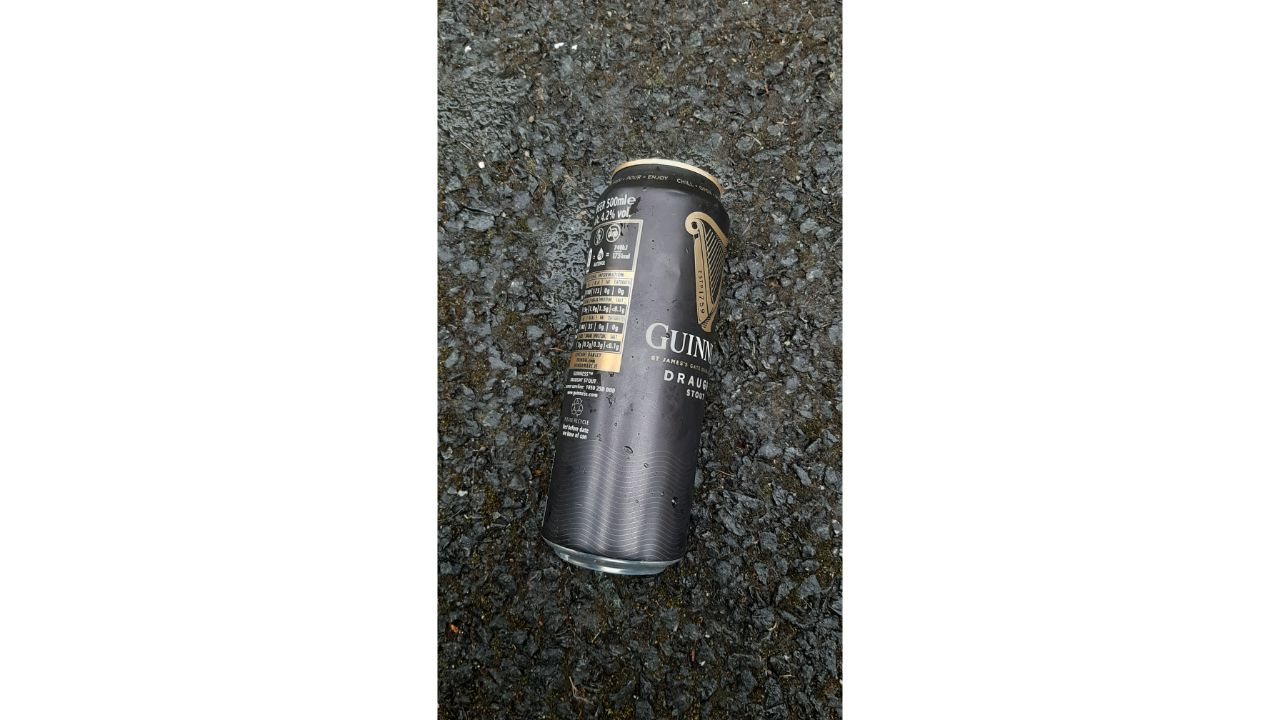Can: (528, 139, 739, 597)
